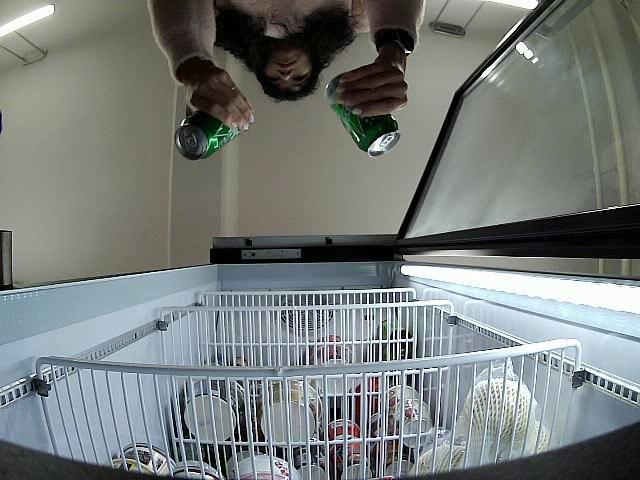00_hand: (185, 69, 255, 132), (335, 58, 408, 117)
12_chilsungCider: (326, 72, 401, 159), (175, 109, 245, 161)
